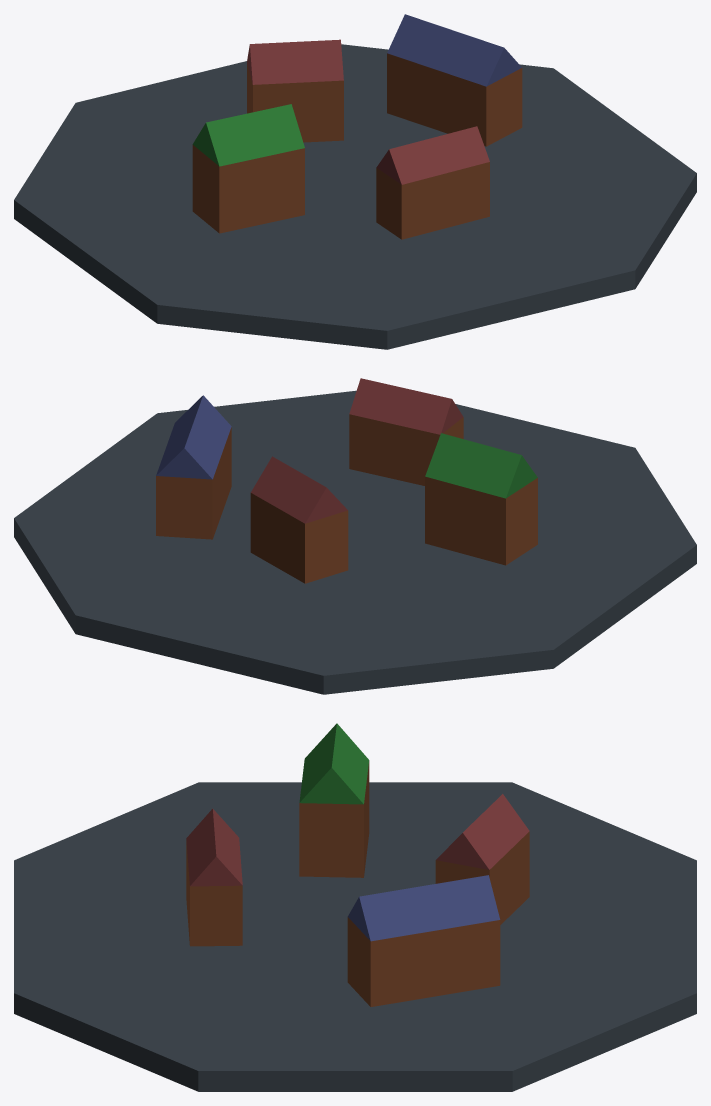
Rendered from city.glb.
3 renders of one model, top to bottom at view 1: azimuth 30°, elevation 25°; view 2: azimuth 150°, elevation 25°; view 3: azimuth 270°, elevation 25°, orthographic. The views are drawn at different scales.
Visible parts, largest first — view 1: Cube, Cube.003, Cube.004, Cube.001, Cube.002; view 2: Cube, Cube.004, Cube.002, Cube.001, Cube.003; view 3: Cube, Cube.003, Cube.004, Cube.001, Cube.002.
Boxes of the visible parts, x1,y1,x2,y2 form: Cube: (14,44,696,349); Cube.003: (387,14,522,146); Cube.004: (192,104,304,233); Cube.001: (376,126,489,239); Cube.002: (247,39,343,142); Cube: (14,390,696,694); Cube.004: (425,433,537,565); Cube.002: (250,456,348,583); Cube.001: (349,378,463,485); Cube.003: (156,395,231,539); Cube: (14,782,696,1091); Cube.003: (347,875,500,1006); Cube.004: (299,723,369,877); Cube.001: (186,808,242,946); Cube.002: (435,794,529,924).
Size of the model in its own units: 2 by 0.4522 by 2.
